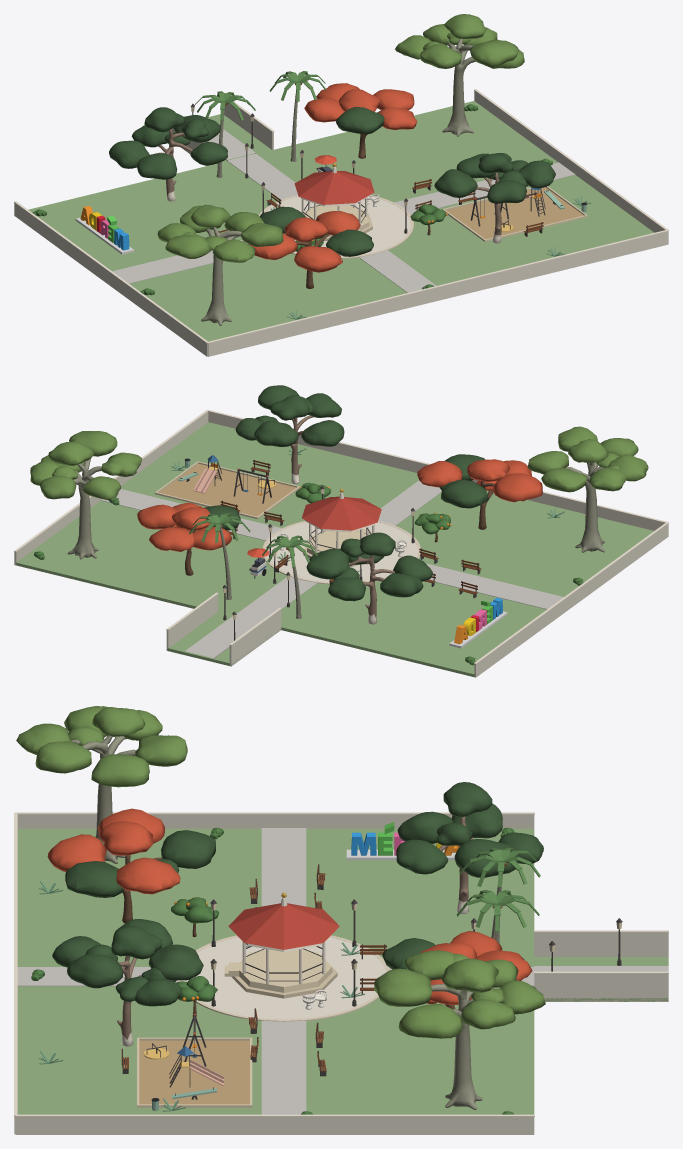
The model's file is barrio_parque.glb.
3 views of the same model, one above another, from view 1: azimuth 30°, elevation 25°; view 2: azimuth 150°, elevation 25°; view 3: azimuth 270°, elevation 25° (orthographic). The views are drawn at different scales.
Visible parts, largest first — view 1: parque_pasto, parque_fachadas, parque_laurel_copa, parque_ceiba_copa, parque_flamboyan_copa, parque_andador, parque_arenero, parque_plaza, parque_palma_copa, parque_herreria, parque_greca, parque_naranjo_copa (+1 smaller); view 2: parque_pasto, parque_fachadas, parque_laurel_copa, parque_ceiba_copa, parque_flamboyan_copa, parque_andador, parque_arenero, parque_plaza, parque_herreria, parque_banqueta, parque_palma_copa, parque_naranjo_copa (+3 smaller); view 3: parque_pasto, parque_fachadas, parque_laurel_copa, parque_ceiba_copa, parque_andador, parque_flamboyan_copa, parque_plaza, parque_arenero, parque_herreria, parque_palma_copa, parque_naranjo_copa, parque_greca (+2 smaller).
Part boxes in pixels (x1=…): parque_pasto: x1=28, y1=101, x2=654, y2=341; parque_fachadas: x1=14, y1=39, x2=668, y2=356; parque_laurel_copa: x1=109, y1=107, x2=555, y2=256; parque_ceiba_copa: x1=157, y1=14, x2=524, y2=262; parque_flamboyan_copa: x1=248, y1=83, x2=417, y2=272; parque_andador: x1=112, y1=153, x2=575, y2=292; parque_arenero: x1=446, y1=187, x2=583, y2=239; parque_plaza: x1=264, y1=196, x2=410, y2=256; parque_palma_copa: x1=195, y1=71, x2=326, y2=120; parque_herreria: x1=190, y1=103, x2=562, y2=236; parque_greca: x1=80, y1=206, x2=129, y2=250; parque_naranjo_copa: x1=295, y1=204, x2=446, y2=251; parque_pasto: x1=16, y1=422, x2=653, y2=677; parque_fachadas: x1=14, y1=409, x2=668, y2=677; parque_laurel_copa: x1=204, y1=385, x2=488, y2=601; parque_ceiba_copa: x1=30, y1=426, x2=648, y2=500; parque_flamboyan_copa: x1=137, y1=459, x2=542, y2=551; parque_andador: x1=101, y1=480, x2=563, y2=620; parque_arenero: x1=159, y1=463, x2=296, y2=516; parque_plaza: x1=265, y1=522, x2=417, y2=582; parque_herreria: x1=180, y1=460, x2=480, y2=640; parque_banqueta: x1=184, y1=615, x2=260, y2=658; parque_palma_copa: x1=189, y1=513, x2=317, y2=567; parque_naranjo_copa: x1=295, y1=482, x2=450, y2=534; parque_pasto: x1=17, y1=828, x2=668, y2=1114; parque_fachadas: x1=14, y1=735, x2=668, y2=1134; parque_laurel_copa: x1=52, y1=782, x2=543, y2=1006; parque_ceiba_copa: x1=16, y1=706, x2=545, y2=1038; parque_andador: x1=17, y1=828, x2=534, y2=1114; parque_flamboyan_copa: x1=47, y1=808, x2=532, y2=1004; parque_plaza: x1=182, y1=937, x2=386, y2=1019; parque_arenero: x1=139, y1=1040, x2=249, y2=1104; parque_herreria: x1=122, y1=864, x2=622, y2=1099; parque_palma_copa: x1=456, y1=848, x2=540, y2=931; parque_naranjo_copa: x1=171, y1=897, x2=219, y2=1001; parque_greca: x1=351, y1=822, x2=459, y2=855.
Size of the model in its own units: 66.36 by 15.22 by 58.6.
